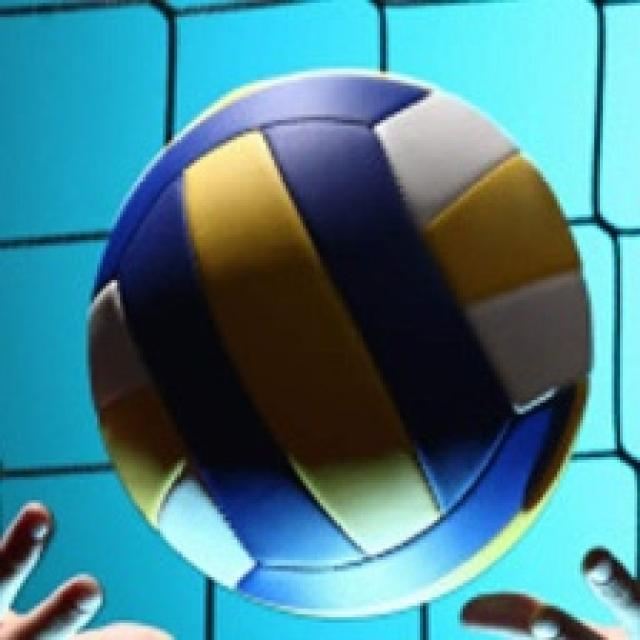volleyball: (88, 70, 592, 622)
